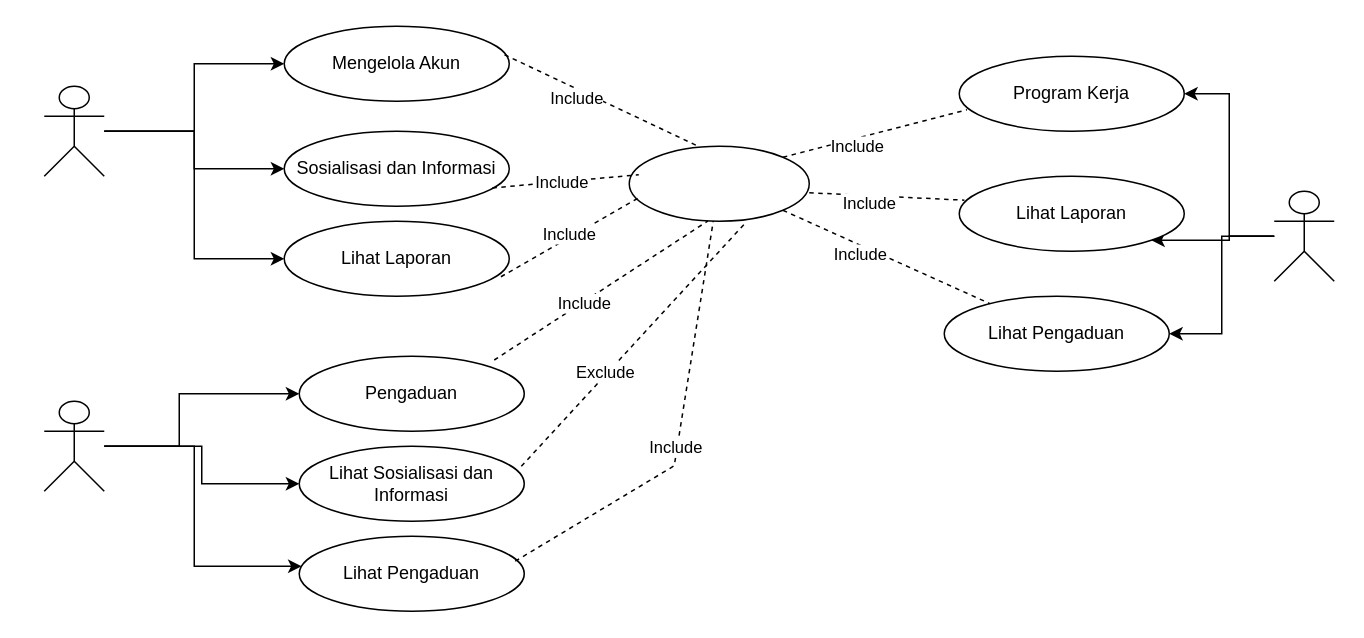
The diagram is 1364 pixels wide and 638 high, and some of its shapes have lost their labels. Each missing label, with the box of its shape:
Login: (628, 145, 809, 221)
Petugas: (1273, 190, 1334, 281)
Superadmin: (43, 85, 104, 176)
Warga: (43, 400, 104, 491)
